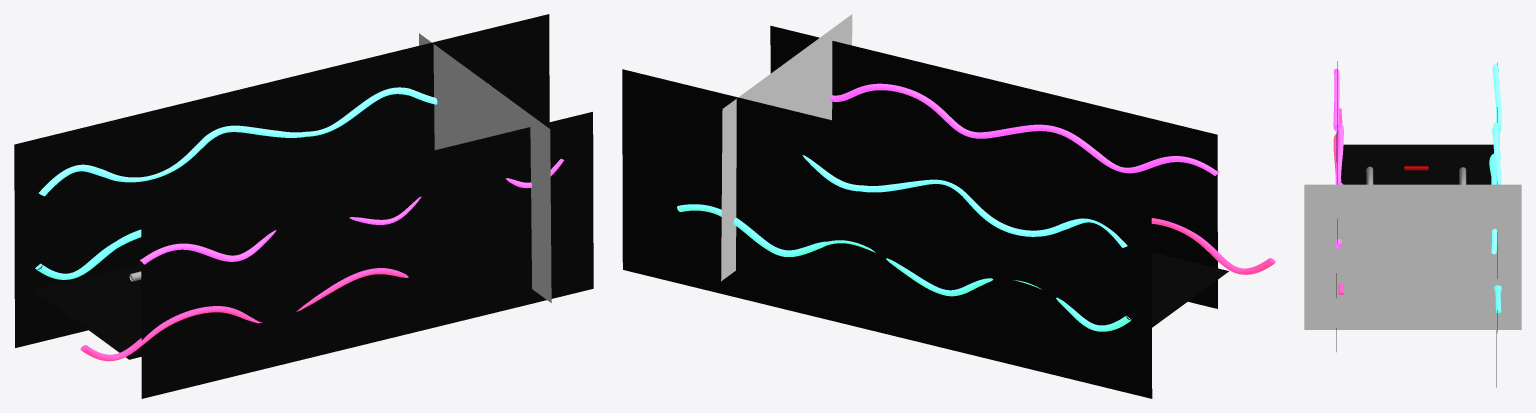
The model's file is pongv2.2.glb.
3 views of the same model, side by side, from view 1: azimuth 30°, elevation 25°; view 2: azimuth 150°, elevation 25°; view 3: azimuth 270°, elevation 25° (orthographic). The views are drawn at different scales.
Visible parts, largest first — view 1: Plane.002, Plane, Plane.004, Plane.003, NurbsPath, NurbsPath.003, NurbsPath.001, NurbsPath.002; view 2: Plane, Plane.002, Plane.004, Plane.003, NurbsPath.001, NurbsPath.002, NurbsPath, NurbsPath.003; view 3: Plane.004, Plane.003, NurbsPath, NurbsPath.001, NurbsPath.002, NurbsPath.003, Plane.002.
Part boxes in pixels (x1,y1,x2,y2): Plane.002: (141, 112, 593, 398); Plane: (14, 14, 549, 347); Plane.004: (419, 33, 551, 302); Plane.003: (34, 263, 141, 359); NurbsPath: (39, 87, 437, 196); NurbsPath.003: (80, 268, 408, 361); NurbsPath.001: (140, 159, 564, 264); NurbsPath.002: (35, 229, 141, 279); Plane: (622, 69, 1152, 398); Plane.002: (770, 25, 1217, 308); Plane.004: (721, 14, 852, 281); Plane.003: (1151, 252, 1228, 327); NurbsPath.001: (830, 83, 1219, 175); NurbsPath.002: (677, 204, 1131, 331); NurbsPath: (802, 155, 1127, 247); NurbsPath.003: (1151, 218, 1275, 274); Plane.004: (1304, 184, 1521, 329); Plane.003: (1341, 144, 1493, 184); NurbsPath: (1491, 64, 1501, 254); NurbsPath.001: (1333, 68, 1343, 248); NurbsPath.002: (1489, 128, 1501, 313); NurbsPath.003: (1333, 108, 1343, 294); Plane.002: (1336, 61, 1337, 351).
Bounding box in the file's own units: 40.64 × 13.99 × 16.37.
